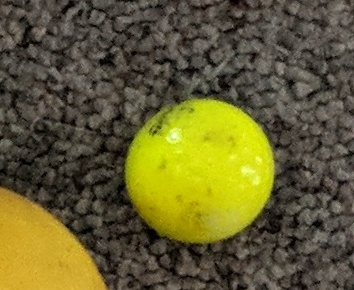ball: (127, 99, 278, 245)
